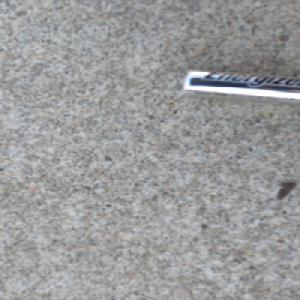Battery: (180, 68, 300, 109)
